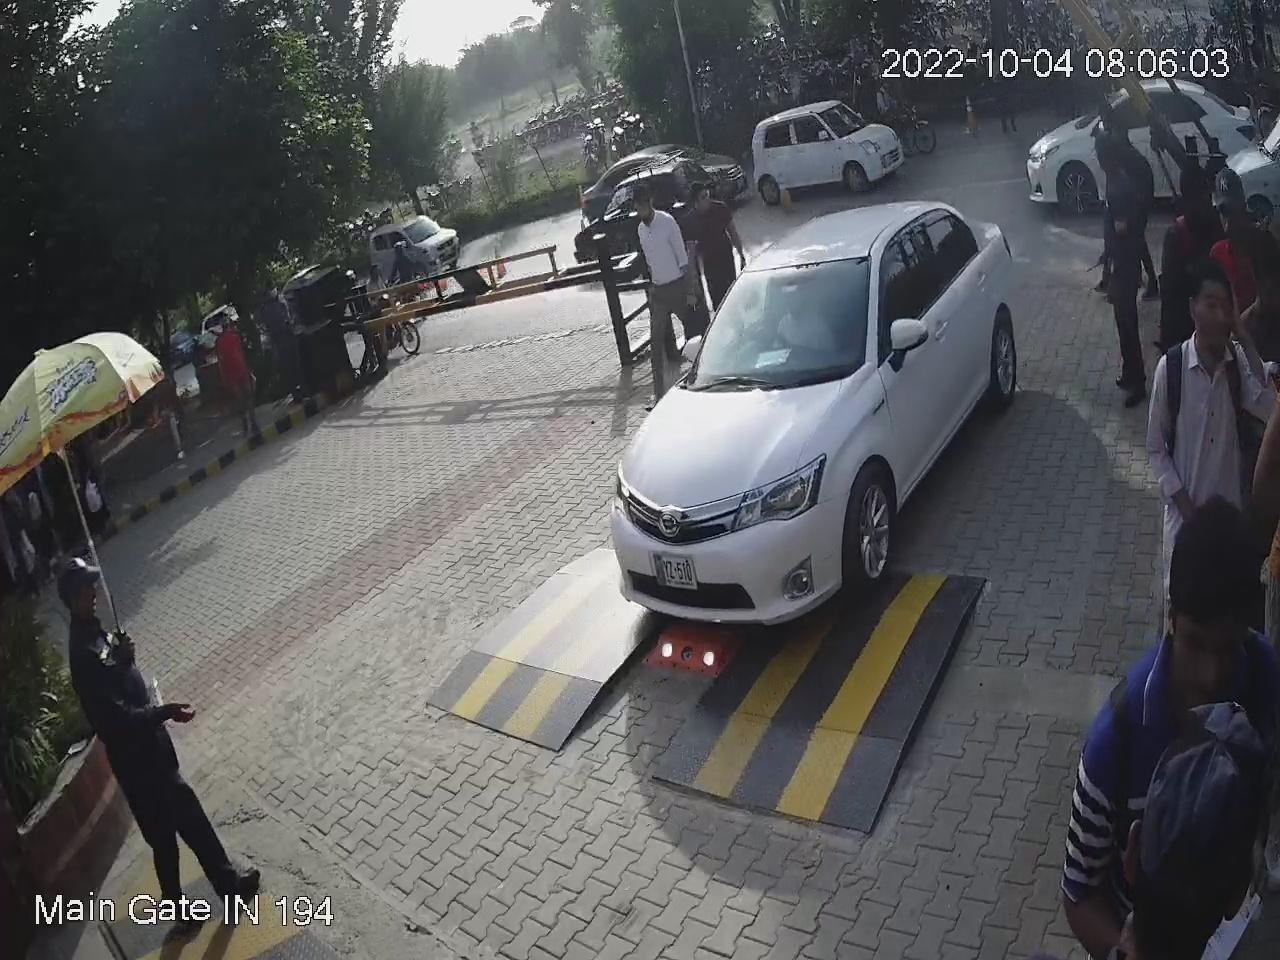windshield: (675, 250, 885, 387)
